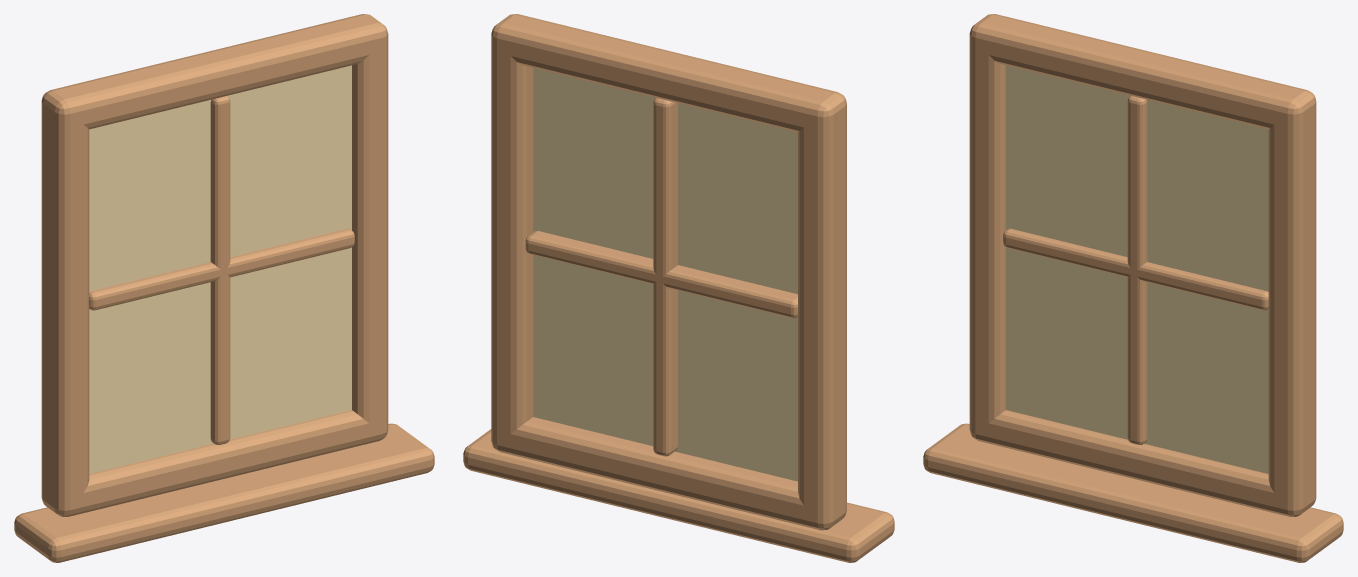
The model's file is window_cozy.fbx.
3 views of the same model, side by side, from view 1: azimuth 30°, elevation 25°; view 2: azimuth 150°, elevation 25°; view 3: azimuth 330°, elevation 25° (orthographic). The views are drawn at different scales.
Parts seen in each view (by area): view 1: Glass, Frame_Side, Sill, Frame_Top, Frame_Side.001, Frame_Bottom, Mullion_V, Mullion_H; view 2: Glass, Frame_Side, Frame_Side.001, Frame_Top, Frame_Bottom, Sill, Mullion_V, Mullion_H; view 3: Glass, Frame_Side.001, Sill, Frame_Top, Frame_Side, Frame_Bottom, Mullion_V, Mullion_H.
Boxes of the visible parts, box(x1,y1,x2,y2) form: Glass: box(89, 65, 351, 473); Frame_Side: box(41, 87, 89, 514); Sill: box(14, 423, 434, 562); Frame_Top: box(43, 14, 388, 129); Frame_Side.001: box(352, 14, 388, 437); Frame_Bottom: box(41, 410, 388, 516); Mullion_V: box(210, 96, 230, 444); Mullion_H: box(89, 228, 354, 310); Glass: box(533, 68, 797, 481); Frame_Side: box(798, 89, 846, 527); Frame_Side.001: box(491, 14, 533, 455); Frame_Top: box(491, 14, 846, 132); Frame_Bottom: box(491, 417, 846, 530); Sill: box(463, 429, 894, 562); Mullion_V: box(653, 98, 677, 456); Mullion_H: box(525, 231, 797, 318); Glass: box(1006, 65, 1268, 473); Frame_Side.001: box(1268, 87, 1316, 516); Sill: box(923, 423, 1343, 562); Frame_Top: box(969, 14, 1315, 129); Frame_Side: box(969, 14, 1006, 440); Frame_Bottom: box(969, 410, 1316, 516); Mullion_V: box(1127, 96, 1147, 444); Mullion_H: box(1003, 228, 1268, 310).
Size of the model in its own units: 1.16 by 1.27 by 0.22.
